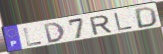7: (67, 18, 86, 40)
D: (134, 6, 158, 30), (42, 21, 66, 45)
L: (112, 12, 134, 32), (22, 27, 44, 47)
R: (88, 14, 114, 37)
